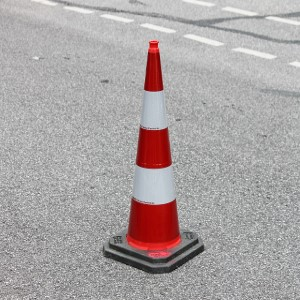traffic cone: (103, 40, 204, 272)
